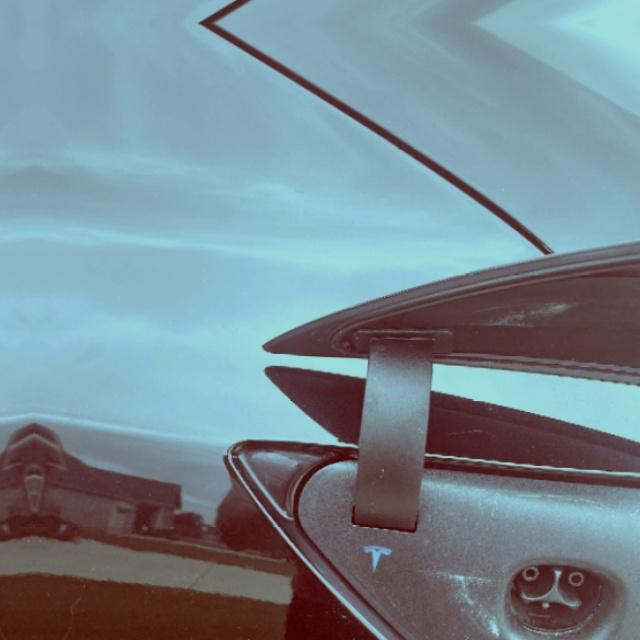Tesla Model-S-: (487, 551, 640, 640)
